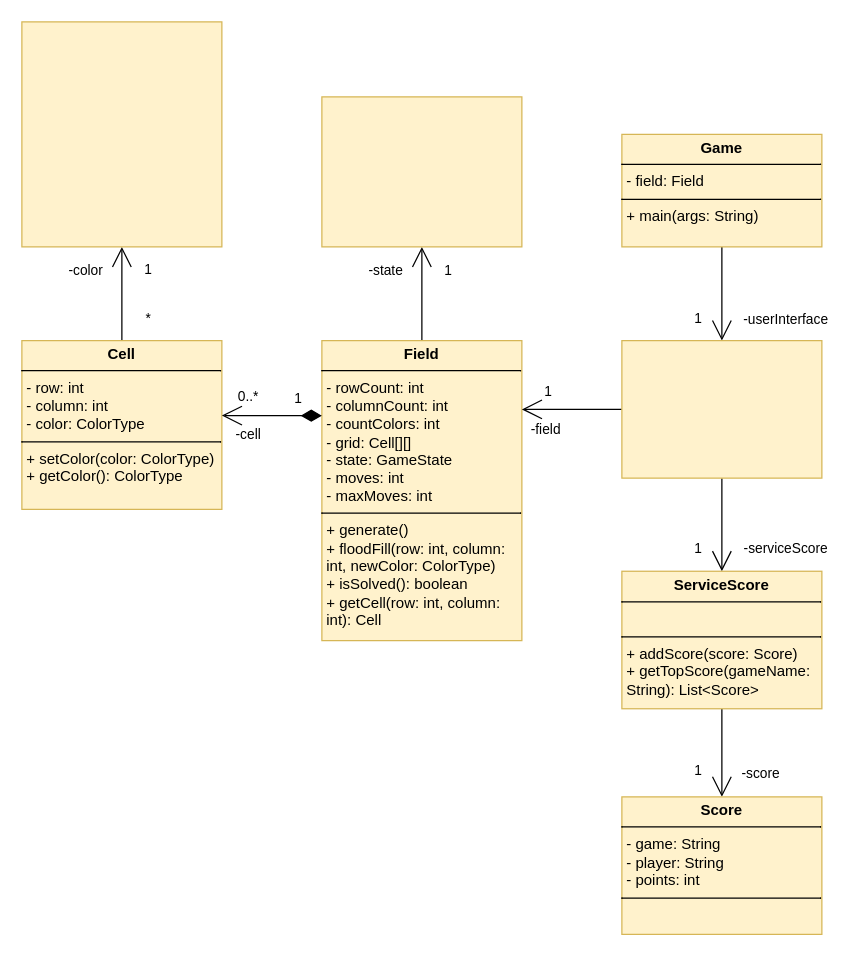
Image size: 849x956. Some labels were removed from this diagram. Each missing label, with the box of its shape:
<<enumeration>> ColorType + RED + BLUE + GREEN + YELLOW + PURPLE + ORANGE + PINK: (21, 21, 222, 247)
<<enumeration>> GameState + PLAYING + SOLVED + FAILED: (321, 96, 522, 247)
ConcoleUI + play(field: Field) + render() + handleInput(): (621, 339, 822, 478)
